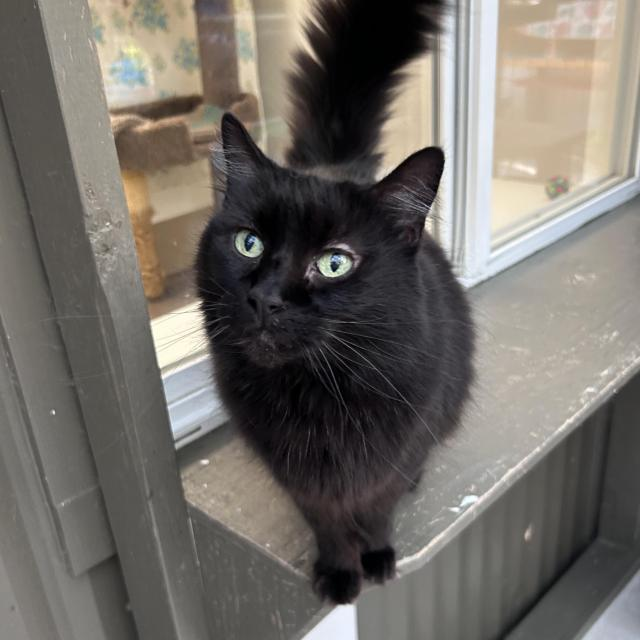domestic_long_hair_cat: (186, 104, 453, 396)
